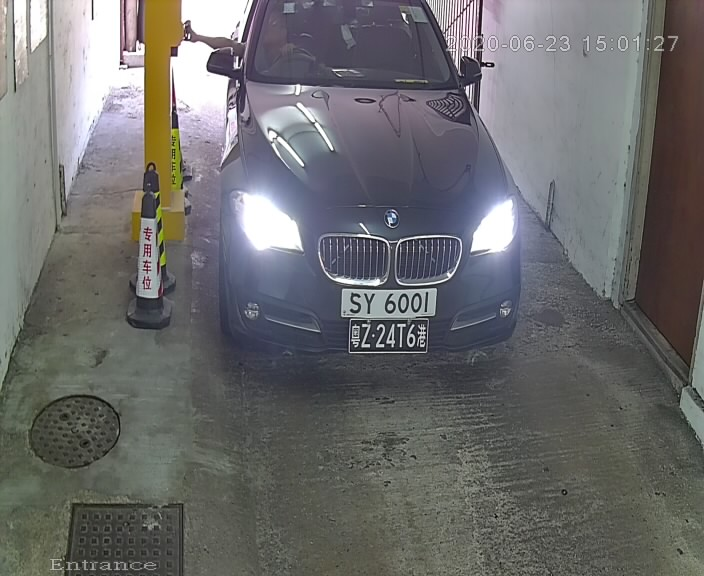privatecar: (197, 2, 530, 389)
